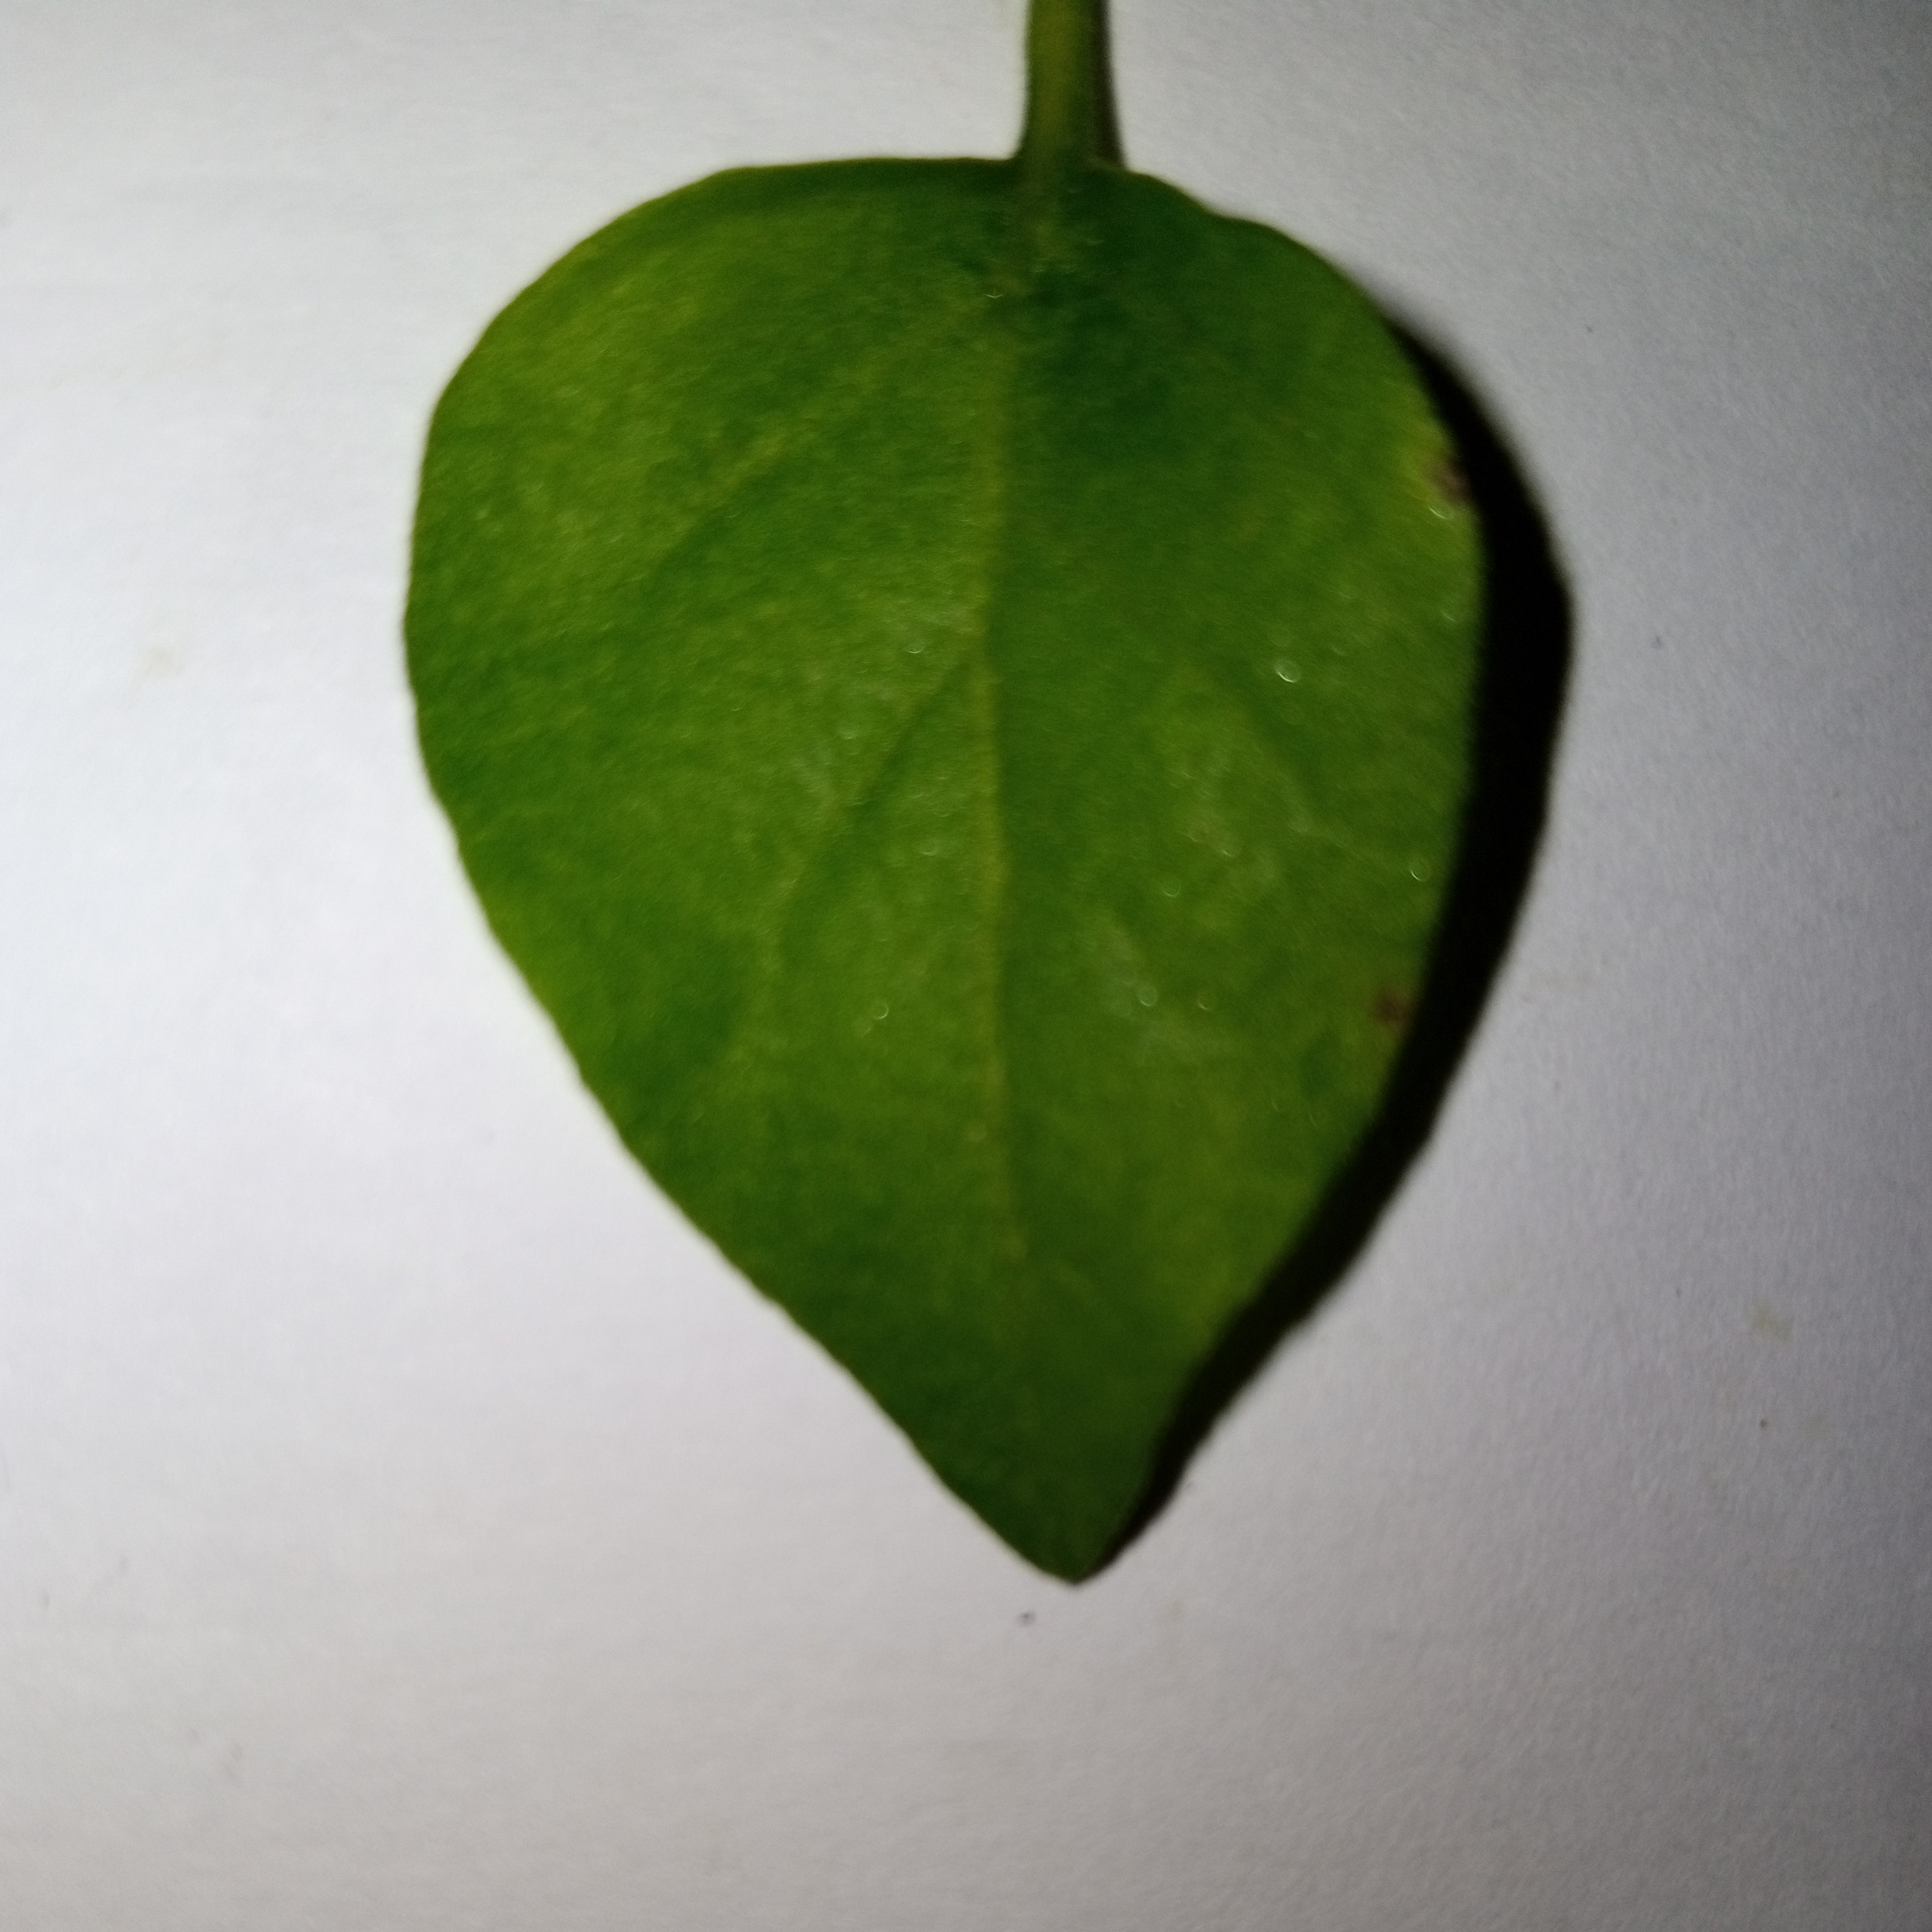Leaf: (269, 78, 1753, 1633)
